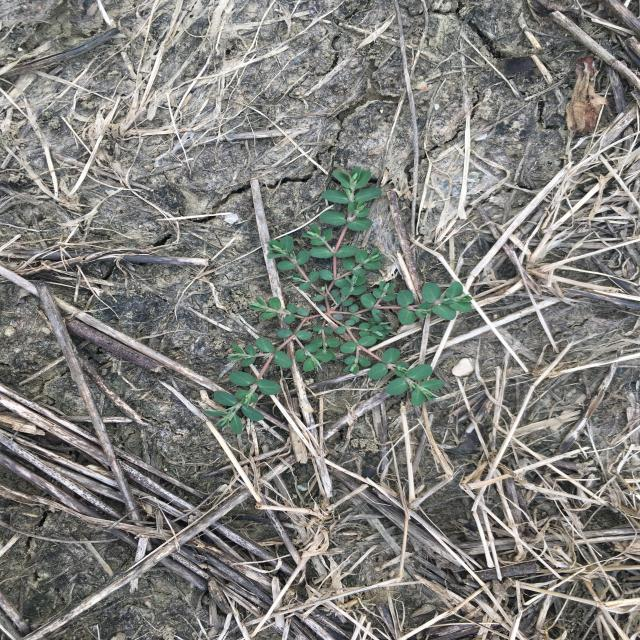SpottedSpurge: (201, 165, 474, 435)
